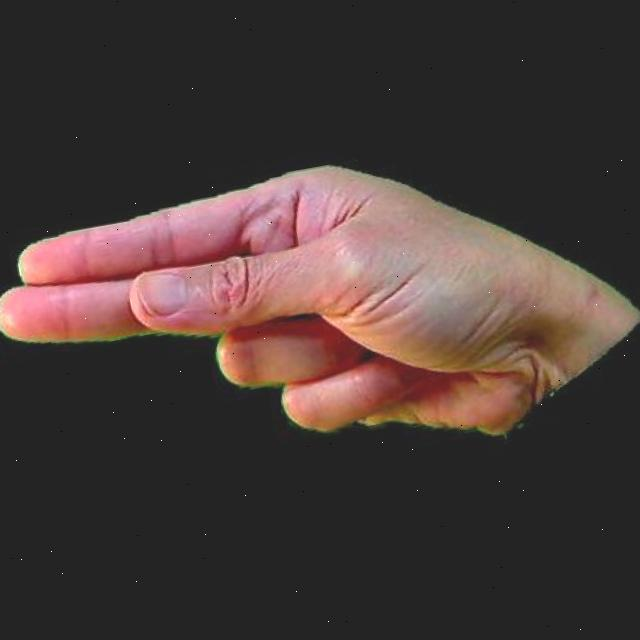h: (0, 98, 640, 538)
